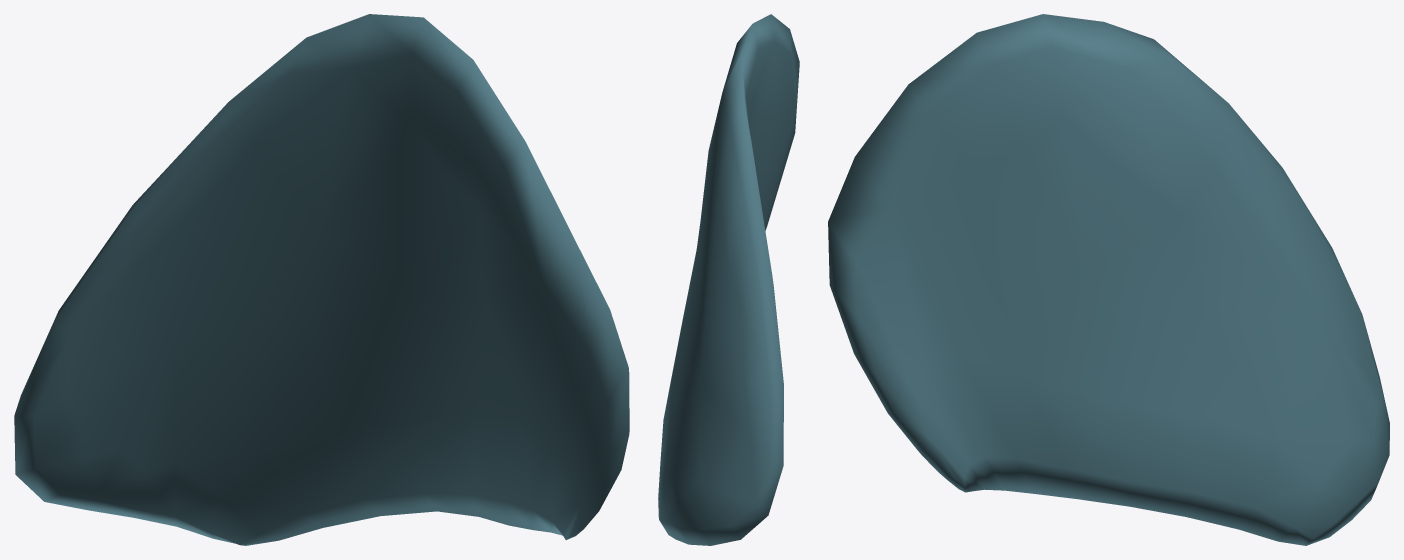
The model's file is Rectus_posterior_major_capitis_axis_left.glb.
The picture shows the model from 3 angles, left to right: view 1: azimuth 30°, elevation 25°; view 2: azimuth 150°, elevation 25°; view 3: azimuth 270°, elevation 25°; orthographic projection. The views are drawn at different scales.
Parts seen in each view (by area): view 1: Rectus_posterior_major_capitis_on_axis.l_Generated_Mesh_From; view 2: Rectus_posterior_major_capitis_on_axis.l_Generated_Mesh_From; view 3: Rectus_posterior_major_capitis_on_axis.l_Generated_Mesh_From.
Part boxes in pixels (x1,y1,x2,y2): Rectus_posterior_major_capitis_on_axis.l_Generated_Mesh_From: (14,14,629,545); Rectus_posterior_major_capitis_on_axis.l_Generated_Mesh_From: (658,14,799,545); Rectus_posterior_major_capitis_on_axis.l_Generated_Mesh_From: (828,14,1389,545).
Bounding box in the file's own units: 0.00388 × 0.00686 × 0.00645.
